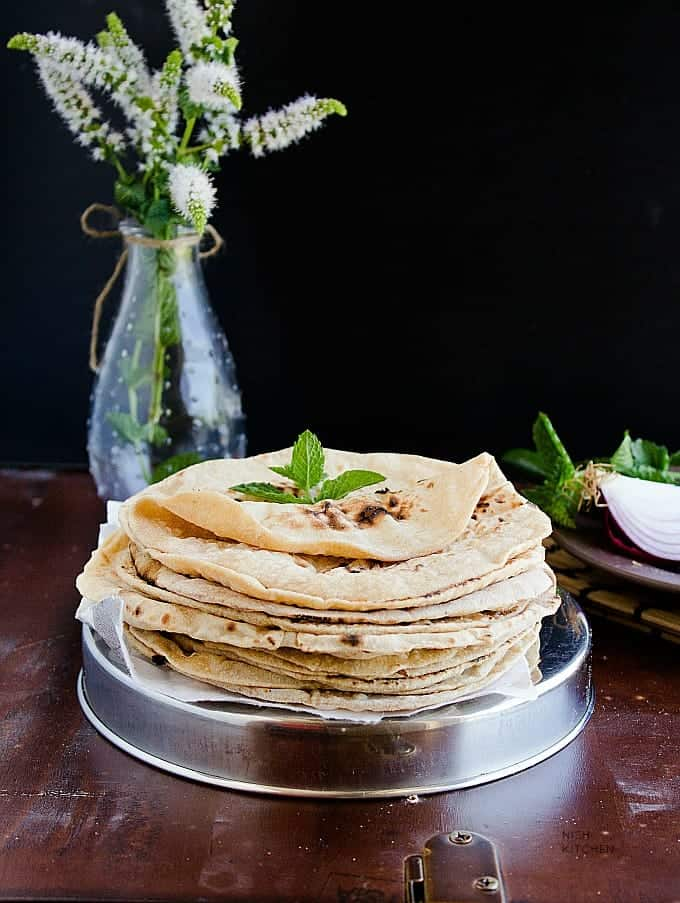Farata: (65, 385, 576, 724)
